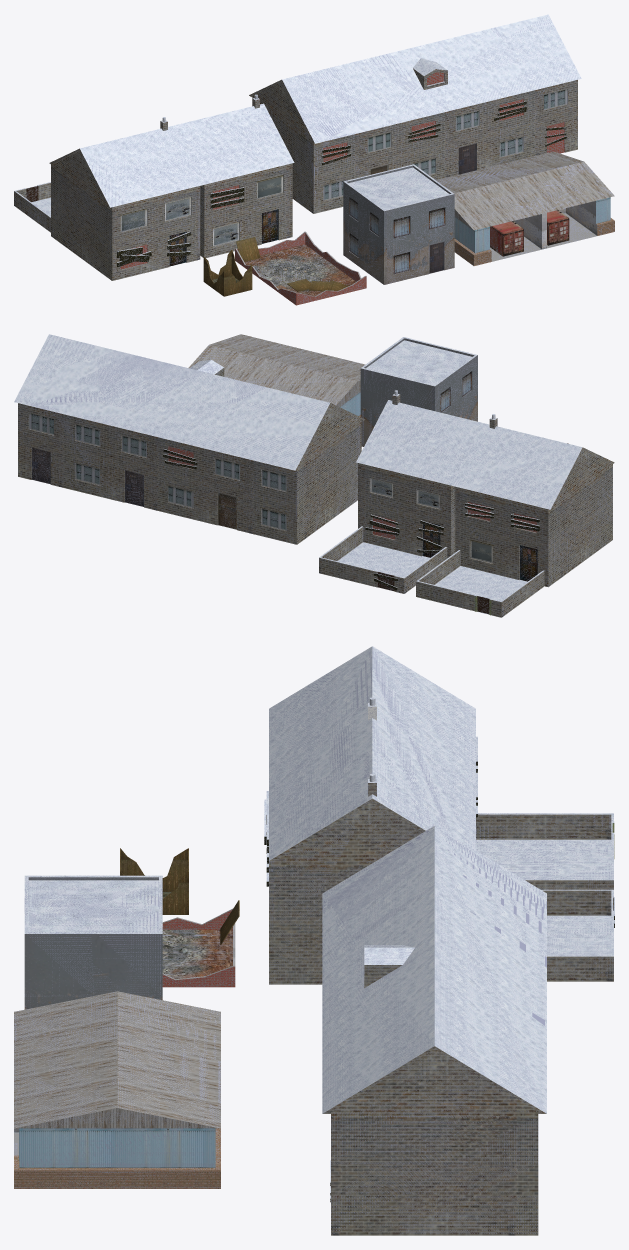
The model's file is house.dae.
3 views of the same model, one above another, from view 1: azimuth 30°, elevation 25°; view 2: azimuth 150°, elevation 25°; view 3: azimuth 270°, elevation 25° (orthographic). The views are drawn at different scales.
Parts seen in each view (by area): view 1: derelict_rowhouse (×7), group_5 (×7), group_9 (×5), derelict_flats (×4), group_0 (×3), group_6, group_8, group_10, group_4; view 2: derelict_rowhouse (×13), group_5 (×7), derelict_flats (×3), group_9; view 3: derelict_rowhouse (×3), group_5 (×4), group_9 (×3), derelict_flats (×3), group_0 (×2), group_6.
Part boxes in pixels (x1,y1,x2,y2): derelict_rowhouse (×7): (249,14,581,213); group_5 (×7): (14,103,294,280); group_9 (×5): (436,151,614,265); derelict_flats (×4): (343,164,454,284); group_0 (×3): (235,232,366,305); group_6: (203,249,252,296); group_8: (548,218,569,245); group_10: (503,229,523,256); group_4: (236,237,260,261); derelict_rowhouse (×13): (14,334,364,544); group_5 (×7): (319,400,614,617); derelict_flats (×3): (360,337,477,446); group_9: (188,334,365,406); derelict_rowhouse (×3): (322,825,546,1235); group_5 (×4): (269,646,613,984); group_9 (×3): (14,991,220,1188); derelict_flats (×3): (24,875,162,1009); group_0 (×2): (162,929,235,987); group_6: (120,848,188,914).
Bounding box in the file's own units: 1658 × 1045 × 393.
